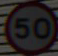Speed limit: (7, 5, 52, 49)
